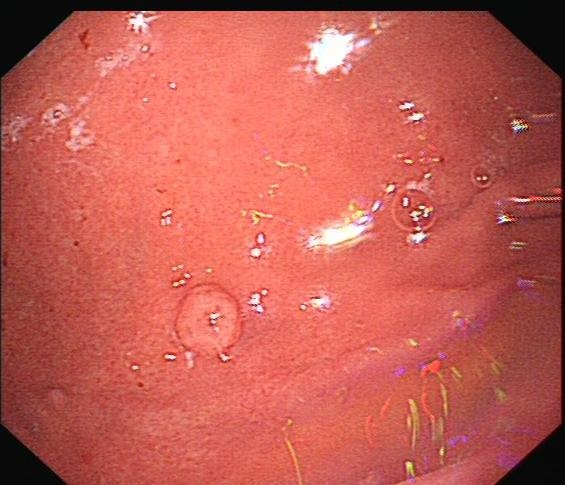Polyp: (168, 282, 246, 361)
